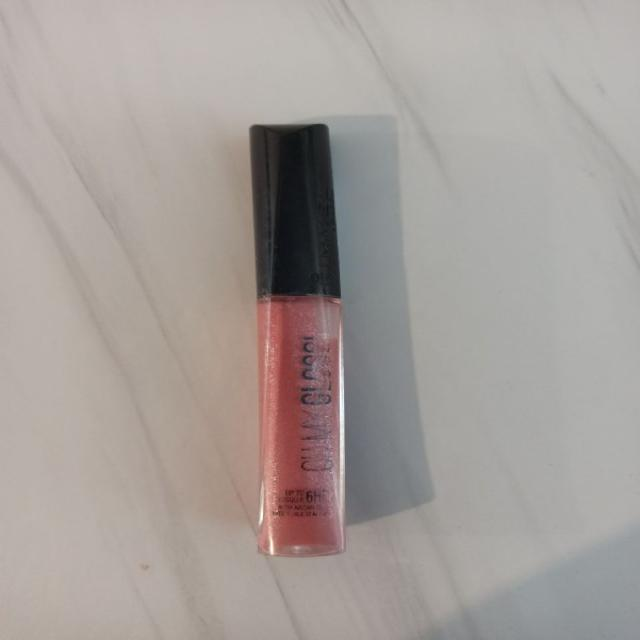lipstick: (248, 121, 346, 556)
